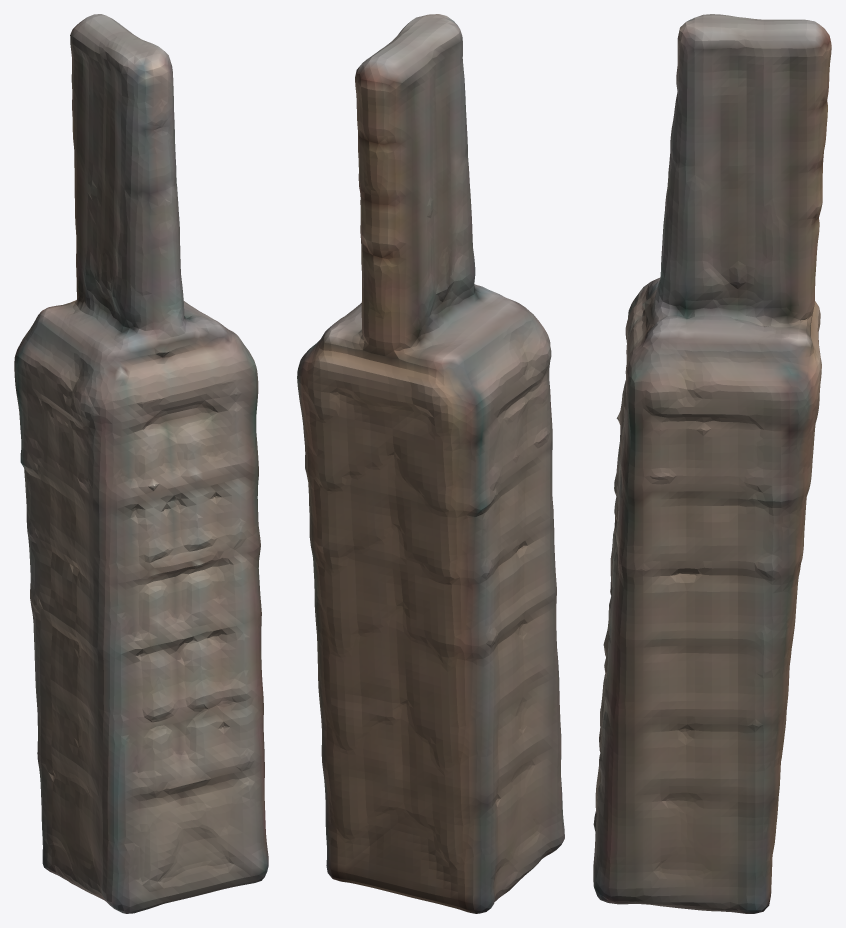
Rendered from model_from_best_candidate.glb.
3 renders of one model, left to right at view 1: azimuth 30°, elevation 25°; view 2: azimuth 150°, elevation 25°; view 3: azimuth 270°, elevation 25°, orthographic. The views are drawn at different scales.
Parts seen in each view (by area): view 1: geometry_0; view 2: geometry_0; view 3: geometry_0.
Boxes of the visible parts, bbox=[...] form: geometry_0: bbox=[14, 14, 268, 913]; geometry_0: bbox=[297, 14, 564, 913]; geometry_0: bbox=[593, 14, 831, 913].
Bounding box in the file's own units: 0.2209 × 1 × 0.2505.
